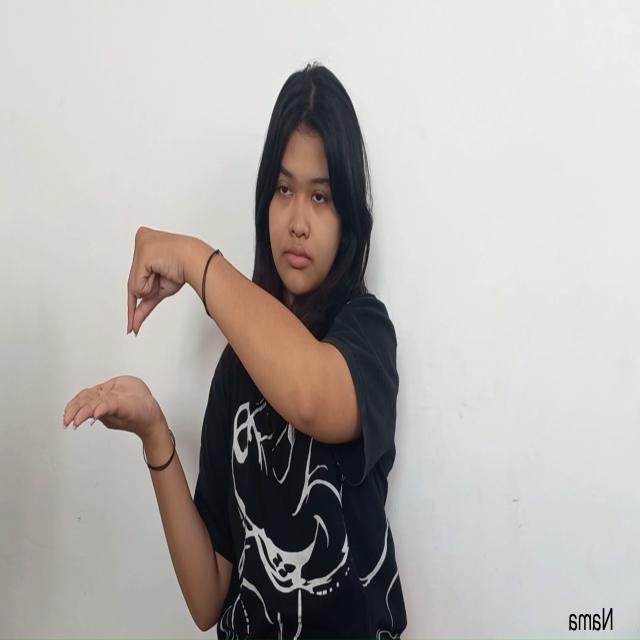Nama -BISINDO-: (63, 227, 195, 437)
